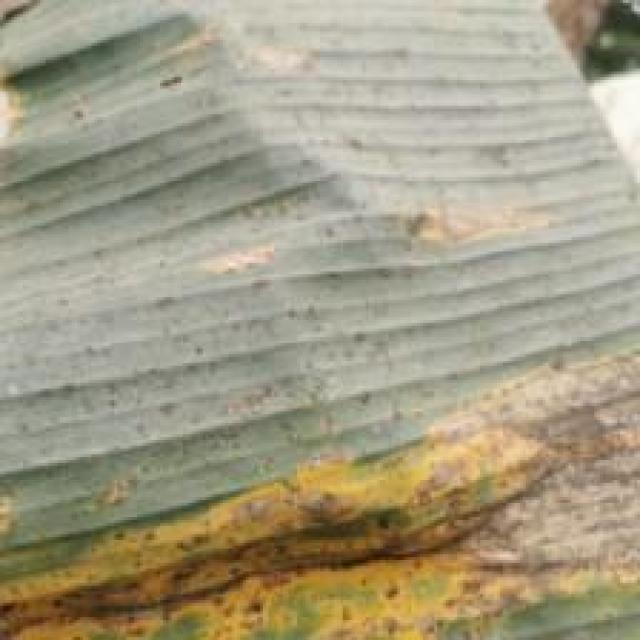Downey_mildrew: (0, 347, 640, 640), (128, 16, 364, 110), (365, 188, 579, 284), (161, 210, 314, 310), (4, 54, 28, 173)
